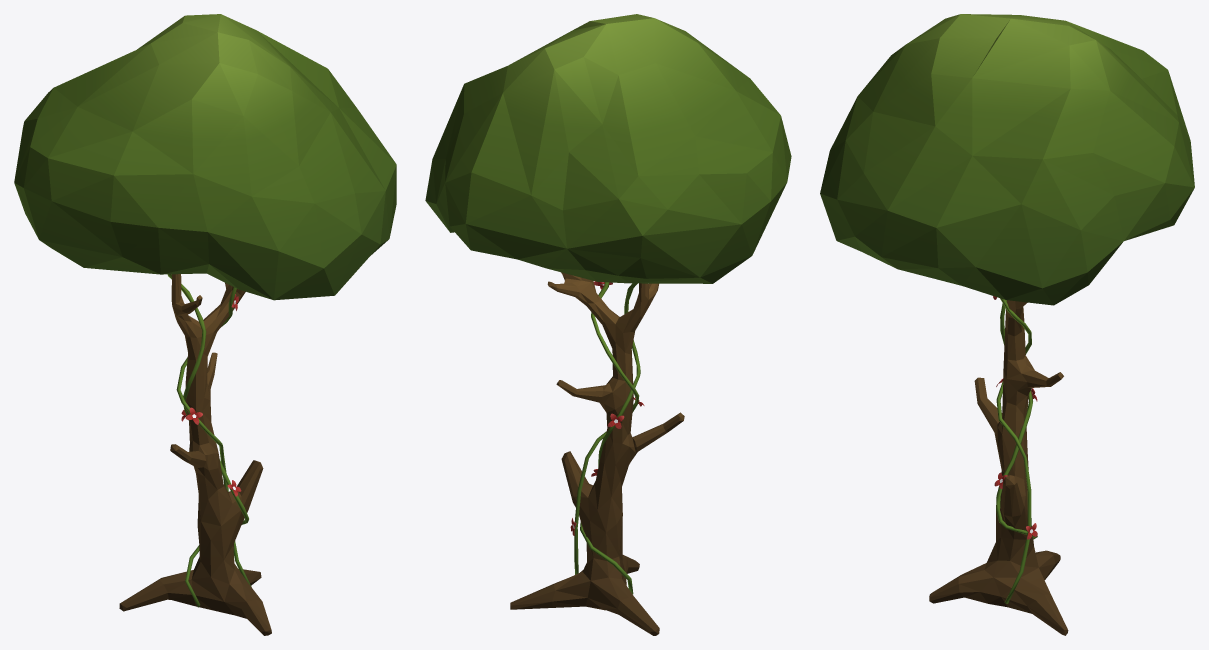
Rendered from Tree_10.fbx.
3 renders of one model, left to right at view 1: azimuth 30°, elevation 25°; view 2: azimuth 150°, elevation 25°; view 3: azimuth 270°, elevation 25°, orthographic.
Parts seen in each view (by area): view 1: Tree_10; view 2: Tree_10; view 3: Tree_10.
Boxes of the visible parts, box(x1,y1,x2,y2) form: Tree_10: box(14, 14, 396, 635); Tree_10: box(425, 14, 791, 635); Tree_10: box(820, 14, 1194, 635).
Size of the model in its own units: 3.64 by 6.08 by 3.54.
